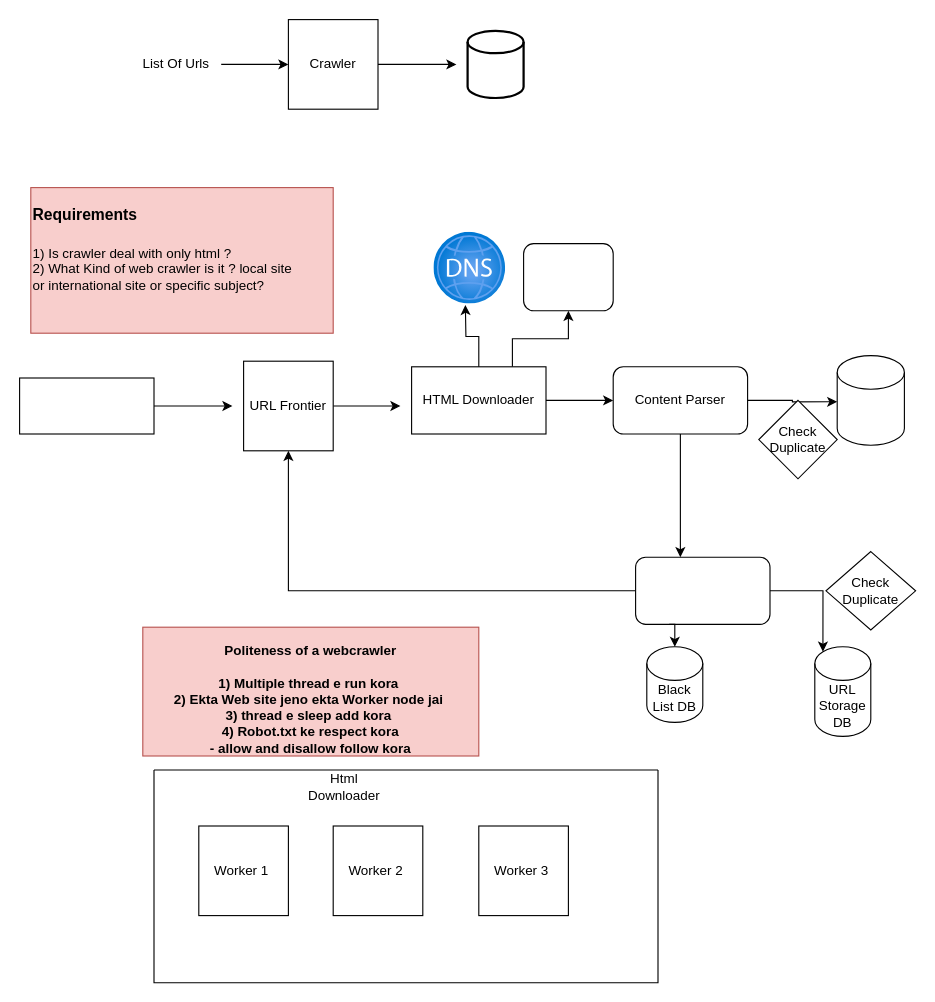
Image size: 935x1002. Some labels were removed from this diagram. Each missing label, with the centre of its shape:
"Content Storage DB" goes at point 870,399.
"DB" goes at point 495,64.
"DNS Cache" goes at point 567,276.
"Link Extractor" goes at point 702,590.
"List of Seed URL" goes at point 86,405.
